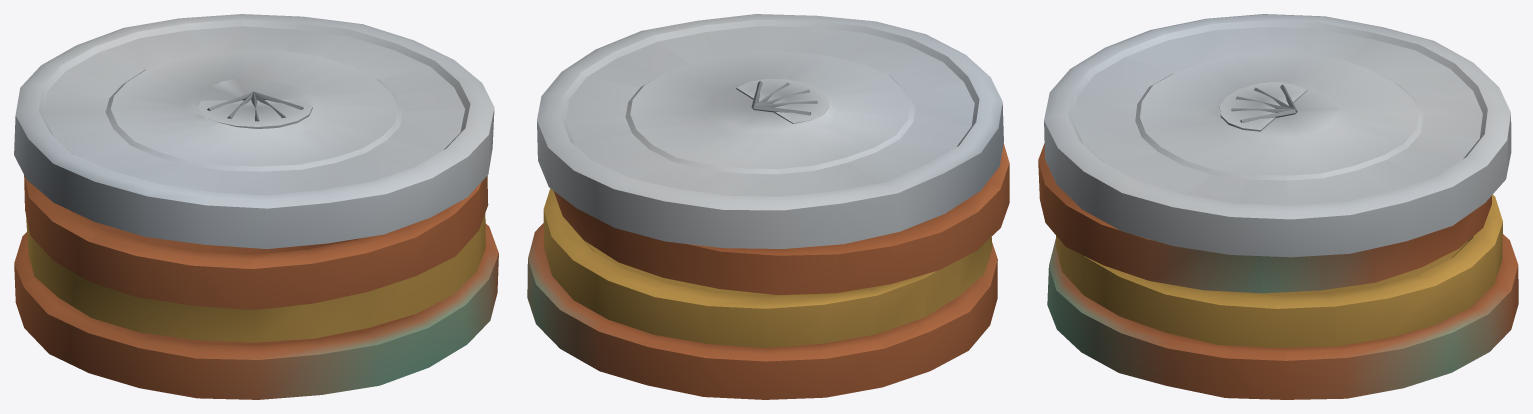
The model's file is grotto_coin_pile.glb.
3 renders of one model, left to right at view 1: azimuth 30°, elevation 25°; view 2: azimuth 150°, elevation 25°; view 3: azimuth 270°, elevation 25°, orthographic. The views are drawn at different scales.
Parts seen in each view (by area): view 1: grotto_coin_pile; view 2: grotto_coin_pile; view 3: grotto_coin_pile.
Part boxes in pixels (x1=…): grotto_coin_pile: x1=14, y1=14, x2=498, y2=399; grotto_coin_pile: x1=527, y1=14, x2=1009, y2=399; grotto_coin_pile: x1=1038, y1=14, x2=1518, y2=399.
Size of the model in its own units: 5.75 by 2.74 by 5.82.
